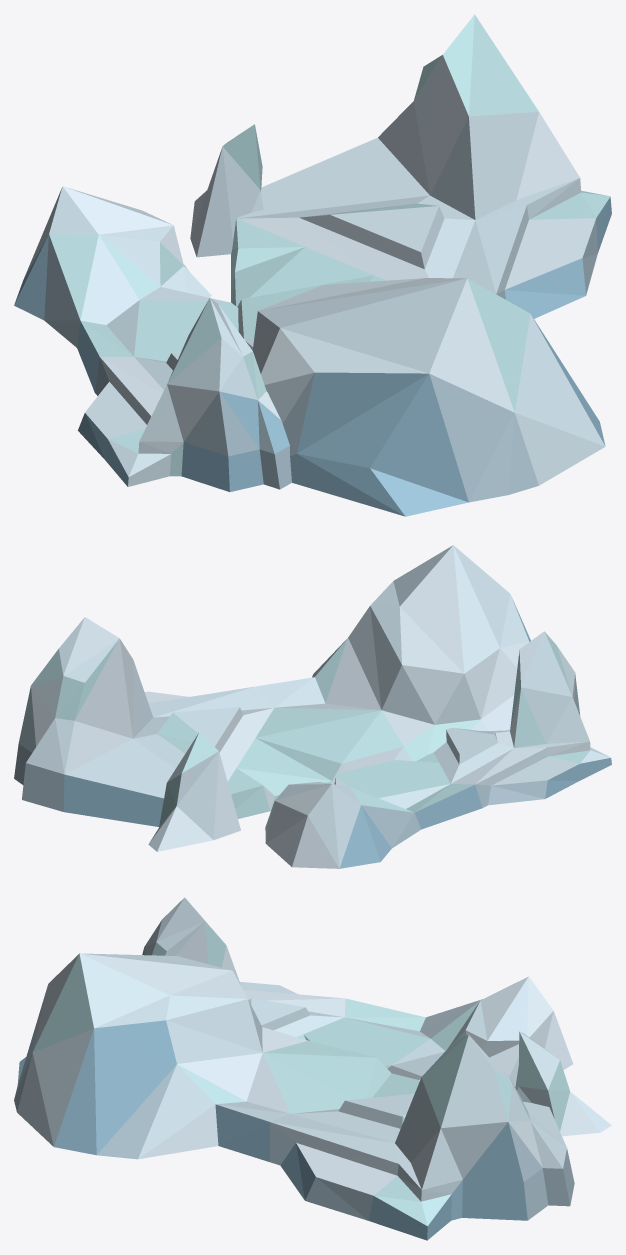
File: Iceberg 18.fbx
The picture shows the model from 3 angles, top to bottom: view 1: azimuth 30°, elevation 25°; view 2: azimuth 150°, elevation 25°; view 3: azimuth 270°, elevation 25°; orthographic projection. The views are drawn at different scales.
Parts seen in each view (by area): view 1: Iceberg 18; view 2: Iceberg 18; view 3: Iceberg 18.
Part boxes in pixels (bbox=[...]): Iceberg 18: bbox=[14, 14, 611, 516]; Iceberg 18: bbox=[14, 545, 611, 868]; Iceberg 18: bbox=[14, 897, 611, 1240].
Size of the model in its own units: 14585 by 4513 by 14910.
